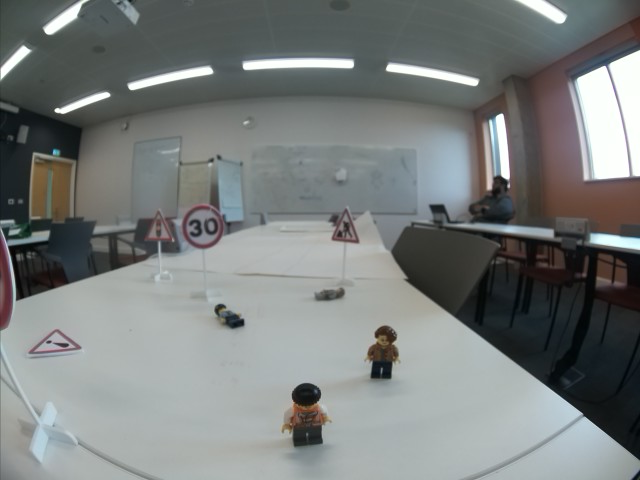30mph: (182, 203, 224, 250)
Lego Man: (279, 380, 336, 449), (364, 324, 402, 379), (211, 303, 248, 328), (312, 286, 350, 300)
Roadworks: (331, 206, 361, 243)
Traffic lights: (142, 208, 176, 241)
Warning: (27, 326, 85, 361)
